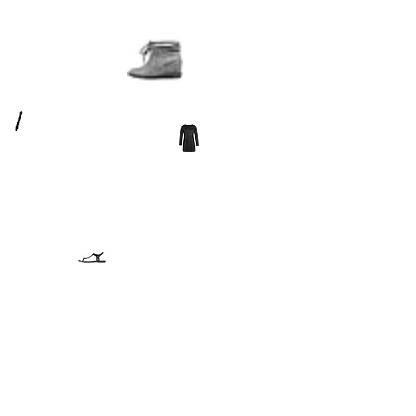3: (43, 144, 65, 166)
5: (257, 274, 369, 386)
7: (78, 170, 100, 192)
8: (103, 125, 125, 147)
Sandal: (298, 103, 410, 215)
